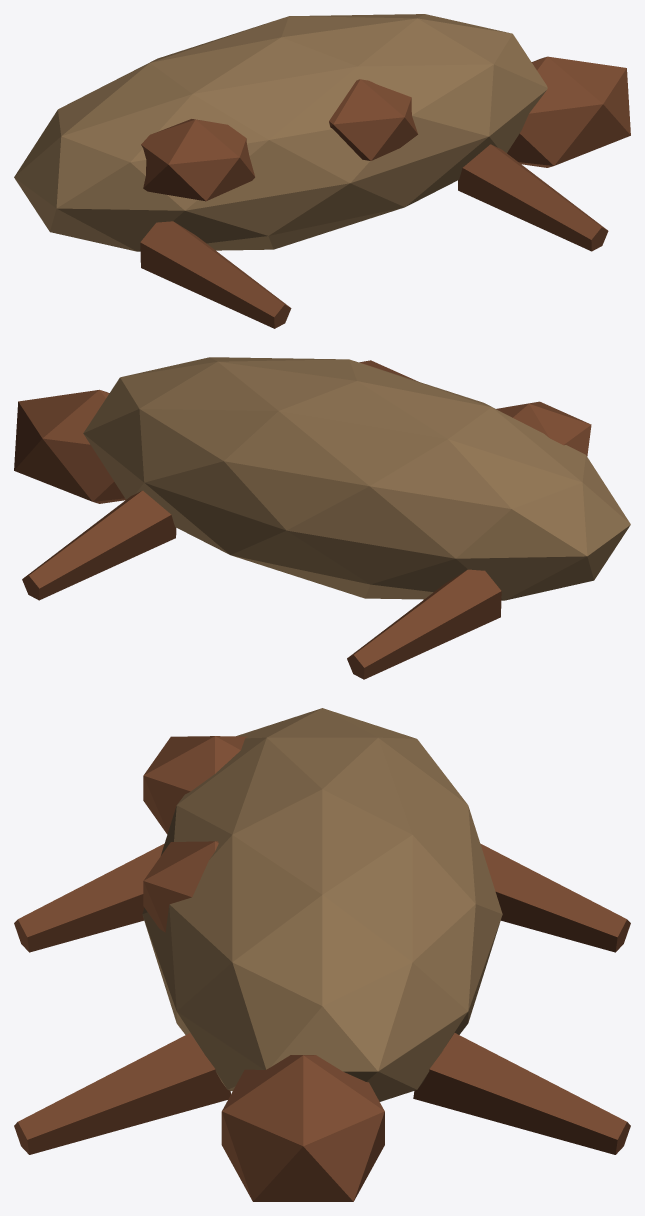
The model's file is prop.farm-carcass.glb.
The picture shows the model from 3 angles, top to bottom: view 1: azimuth 30°, elevation 25°; view 2: azimuth 150°, elevation 25°; view 3: azimuth 270°, elevation 25°; orthographic projection. The views are drawn at different scales.
Parts seen in each view (by area): view 1: body; view 2: body; view 3: body.
Part boxes in pixels (x1,y1,x2,y2): body: (14, 14, 630, 328); body: (14, 357, 630, 679); body: (14, 708, 630, 1201).
Size of the model in its own units: 2.3 by 0.72 by 1.61.
